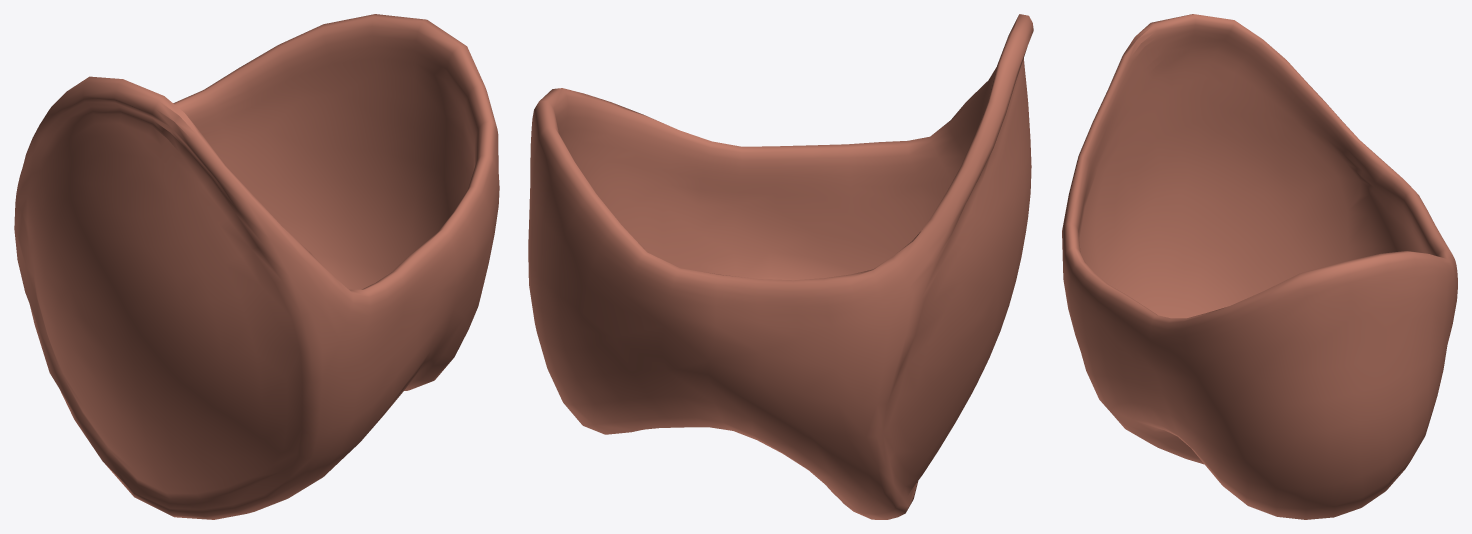
File: TL4_Enamel_Prongs.001 3.glb
3 views of the same model, side by side, from view 1: azimuth 30°, elevation 25°; view 2: azimuth 150°, elevation 25°; view 3: azimuth 270°, elevation 25° (orthographic). The views are drawn at different scales.
Parts seen in each view (by area): view 1: TL4_Enamel_Prongs.001; view 2: TL4_Enamel_Prongs.001; view 3: TL4_Enamel_Prongs.001.
Part boxes in pixels (box(x1,y1,x2,y2)): TL4_Enamel_Prongs.001: box(14, 14, 499, 519); TL4_Enamel_Prongs.001: box(528, 14, 1033, 519); TL4_Enamel_Prongs.001: box(1062, 14, 1457, 519).
Bounding box in the file's own units: 0.8599 × 0.9017 × 0.7819.
